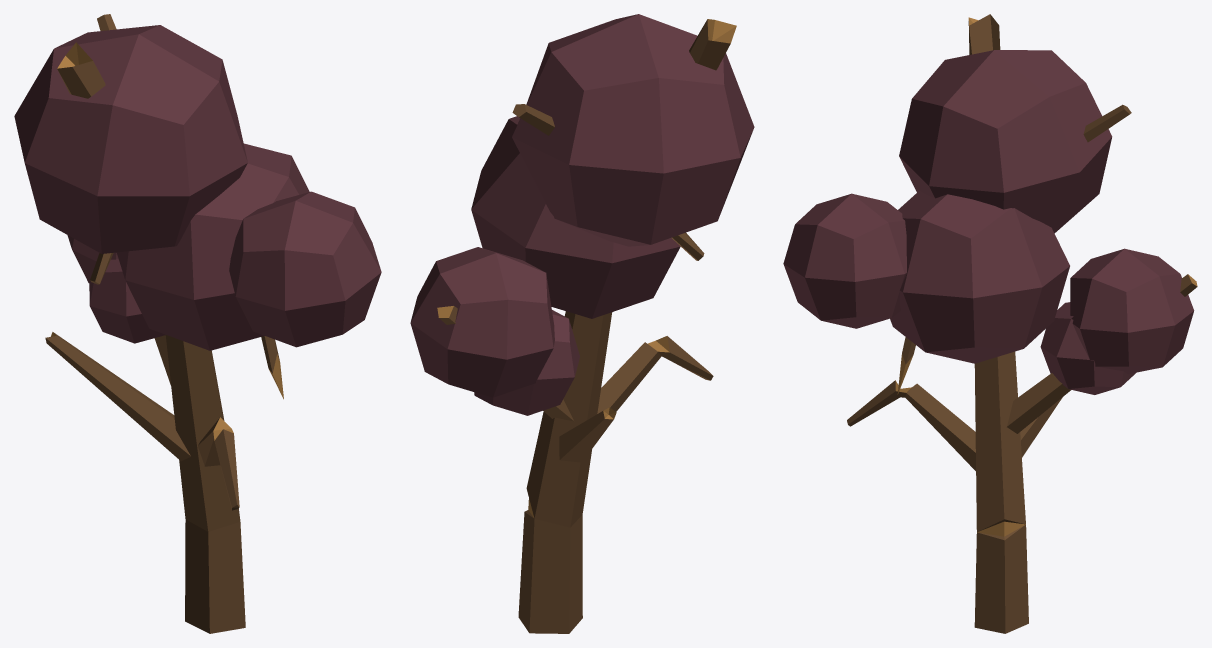
File: tree-torn-c.fbx
3 views of the same model, side by side, from view 1: azimuth 30°, elevation 25°; view 2: azimuth 150°, elevation 25°; view 3: azimuth 270°, elevation 25° (orthographic). The views are drawn at different scales.
Parts seen in each view (by area): view 1: tree-torn-c; view 2: tree-torn-c; view 3: tree-torn-c.
Boxes of the visible parts, x1,y1,x2,y2 form: tree-torn-c: [14, 14, 381, 633]; tree-torn-c: [410, 14, 754, 633]; tree-torn-c: [783, 14, 1197, 633].
Size of the model in its own units: 2.52 by 5.49 by 3.78.
